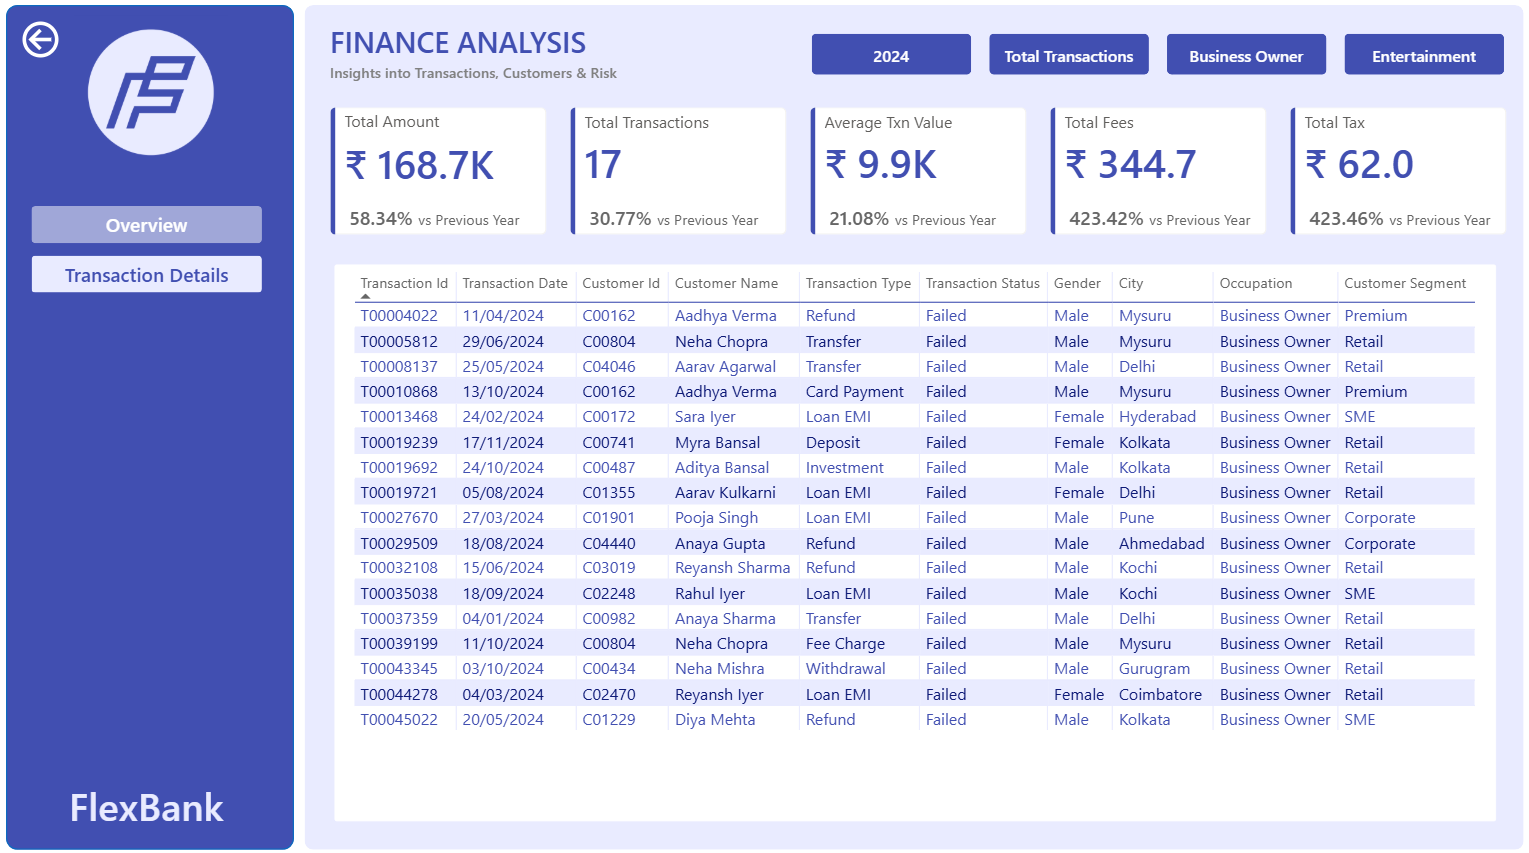

This screenshot's page, from the dashboard's own definition file:
{"tool":"powerbi","page":{"name":"Transaction Details","canvas":[1280,720],"ordinal":1},"visuals":[{"type":"shape","box":[8,8,240,704],"z":0},{"type":"shape","box":[256,8,1016,704],"z":1000},{"type":"textbox","box":[272,16,400,64],"z":2000},{"type":"cardVisual","fields":{"Data":["finance_transactions.Total Amount","finance_transactions.Total Transactions","finance_transactions.Average Txn Value","finance_transactions.Total Fees","_Measures.Total Tax"]},"box":[272,88,992,112],"z":3000},{"type":"tableEx","fields":{"Values":["finance_transactions.transaction_id","finance_transactions.transaction_date","customers.customer_id","customers.customer_name","finance_transactions.transaction_type","finance_transactions.transaction_status","customers.gender","customers.city","customers.occupation","customers.customer_segment"]},"box":[281,224,968,464],"z":4000},{"type":"actionButton","box":[16,16,40,40],"z":5000},{"type":"cardVisual","fields":{"Data":["_Measures.Selected Year","Min(Dynamic Metrics.Dynamic Title)","_Measures.Selected Occupation","_Measures.Selected Merchant Category"]},"box":[664,16,608,64],"z":6000},{"type":"image","box":[56,16,144,128],"z":7000},{"type":"textbox","box":[32,648,184,56],"z":8000},{"type":"pageNavigator","box":[29,175,192,72],"z":9000}]}

Visuals, with their boxes in screenshot pixels (x1, y1, x2, y2), scaled from the page's 1280x720 canvas onto the 1529x853 screenshot:
shape: (10, 9, 296, 844)
shape: (306, 9, 1519, 844)
textbox: (325, 19, 803, 95)
cardVisual - finance_transactions.Total Amount x finance_transactions.Total Transactions: (325, 104, 1510, 237)
tableEx - finance_transactions.transaction_id x finance_transactions.transaction_date: (336, 265, 1492, 815)
actionButton: (19, 19, 67, 66)
cardVisual - _Measures.Selected Year x Min(Dynamic Metrics.Dynamic Title): (793, 19, 1519, 95)
image: (67, 19, 239, 171)
textbox: (38, 768, 258, 834)
pageNavigator: (35, 207, 264, 293)
